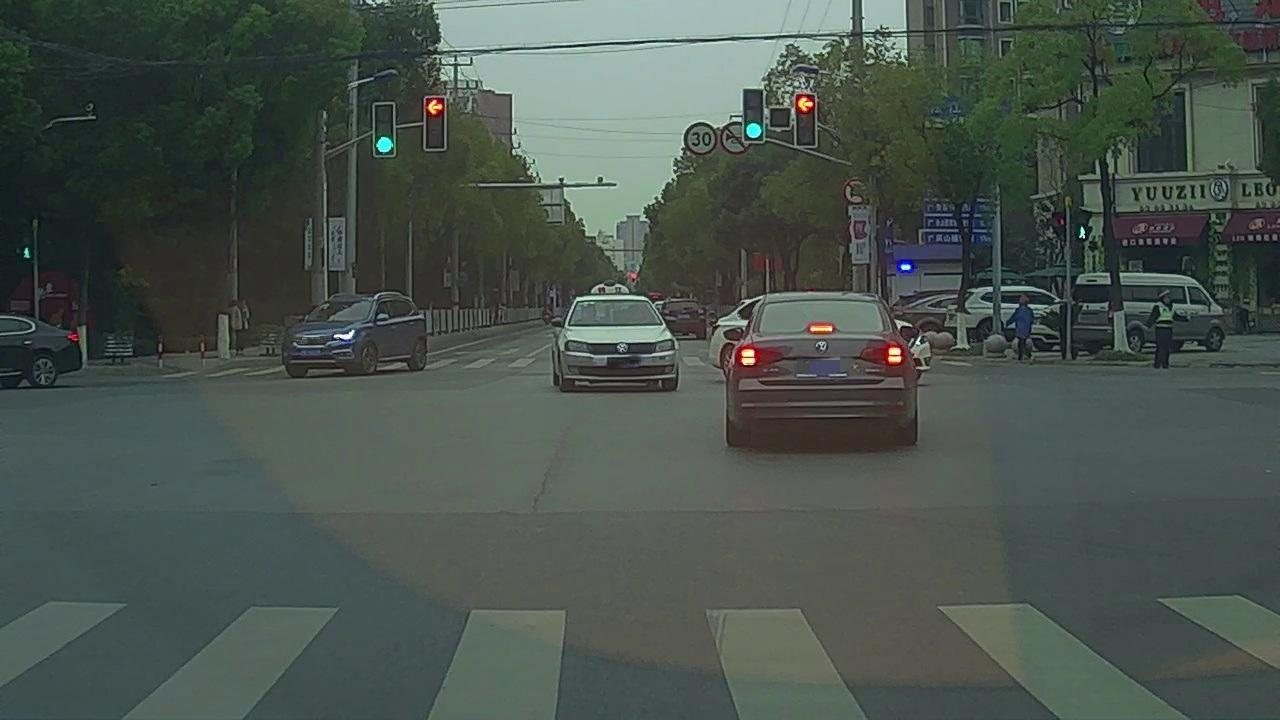traffic_light: (374, 104, 396, 156), (796, 94, 815, 148), (426, 97, 445, 150), (744, 90, 763, 142)
